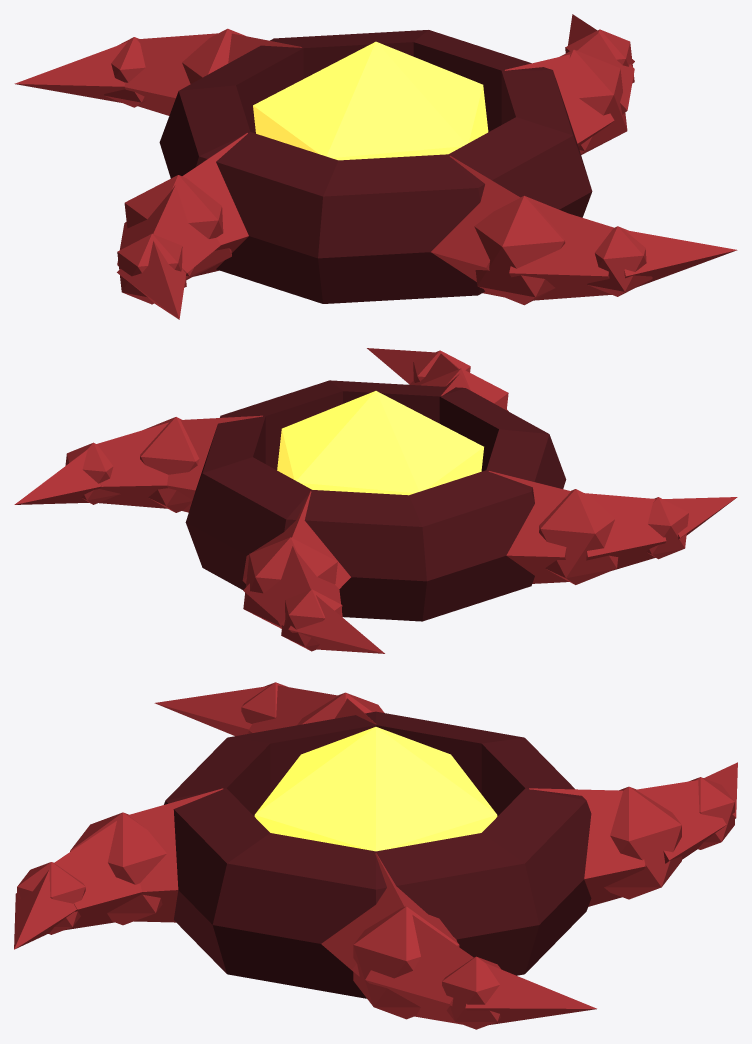
File: Shot_Stinger.fbx
3 views of the same model, one above another, from view 1: azimuth 30°, elevation 25°; view 2: azimuth 150°, elevation 25°; view 3: azimuth 270°, elevation 25° (orthographic). The views are drawn at different scales.
Visible parts, largest first — view 1: Carapace, Barbs, Core; view 2: Carapace, Barbs, Core; view 3: Carapace, Barbs, Core.
Boxes of the visible parts, bbox=[...] form: Carapace: bbox=[159, 30, 592, 303]; Barbs: bbox=[14, 14, 737, 319]; Core: bbox=[253, 41, 488, 160]; Carapace: bbox=[185, 380, 566, 621]; Barbs: bbox=[14, 348, 737, 653]; Core: bbox=[277, 391, 483, 495]; Carapace: bbox=[164, 711, 591, 998]; Barbs: bbox=[14, 682, 737, 1029]; Core: bbox=[254, 727, 497, 851].
Bounding box in the file's own units: 2.13 × 0.84 × 2.13.
